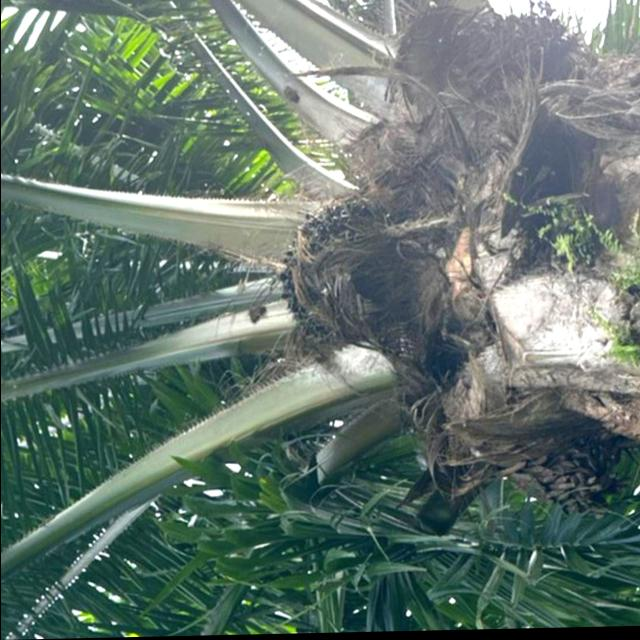unripe: (262, 189, 428, 366)
